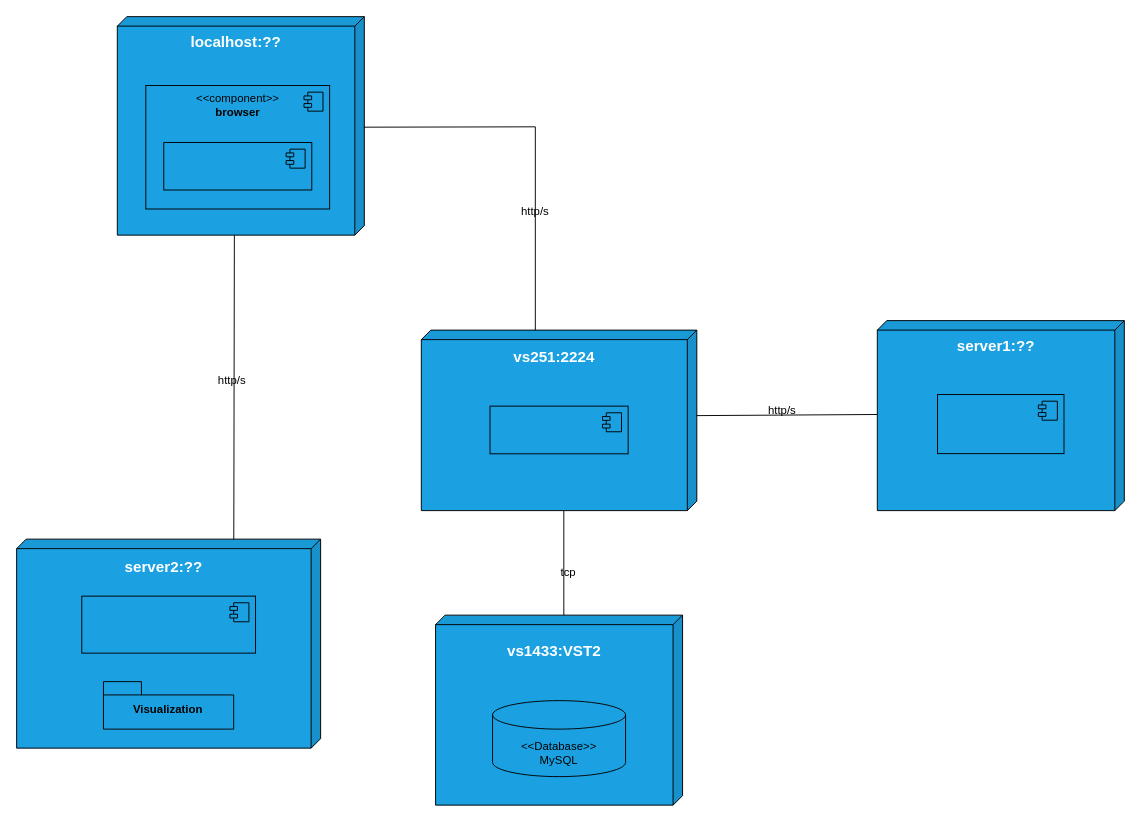
Image size: 1141x822. Some labels were removed from this diagram. The centre of each missing label's shape, as x and y in pixels:
"«component» HttpServer" belongs at point 168,624.
"«component» MDBackoffice" belongs at point 558,429.
"«component» Planning" belongs at point 1000,424.
"«component» UI" belongs at point 237,166.
